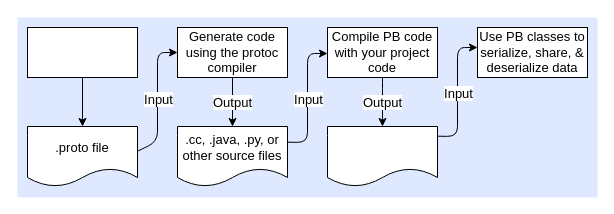
This 614x214 diagram has some shape labels left out. Each missing label, with the box of its shape:
Compiled classes: (326, 126, 438, 186)
Create .proto file to define data structure: (26, 26, 138, 78)
